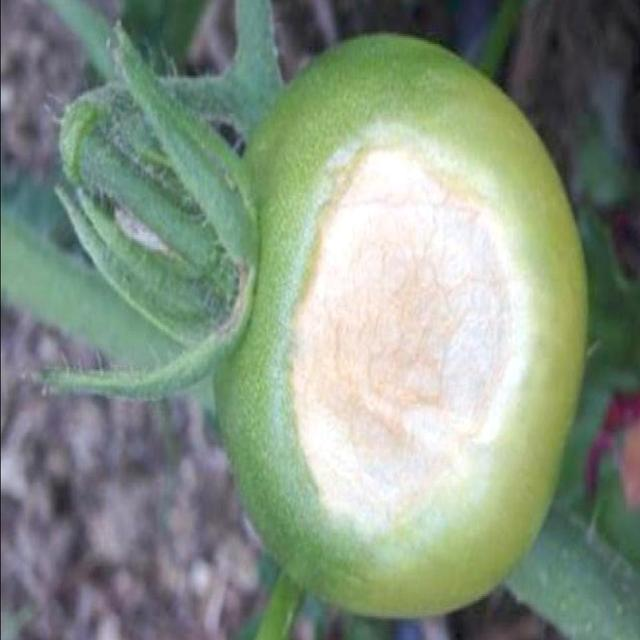Sunscald Fruit: (173, 85, 357, 370)
